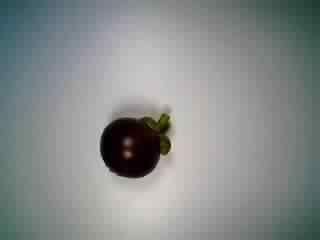mangosteen: (95, 108, 179, 182)
